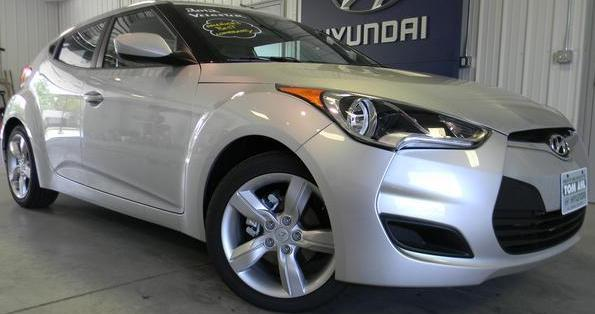front_view: (280, 76, 591, 273)
headlight: (276, 81, 500, 163)
side_glass: (43, 12, 211, 78)
